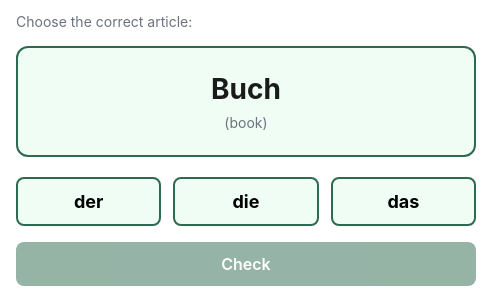
Test: ArticleSelection › accepts the correct article
Click the button "das".
click(403, 202)  # box [331,177,476,226]
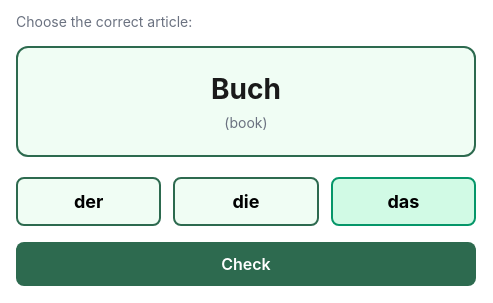
Click the button "Check".
click(246, 264)  # box [16,242,476,286]
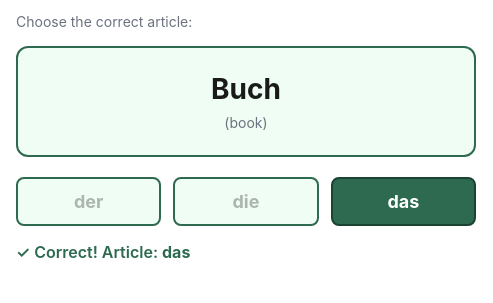
Check: the text "✓ Correct! Article: das" is shown, box [16,242,190,262]
